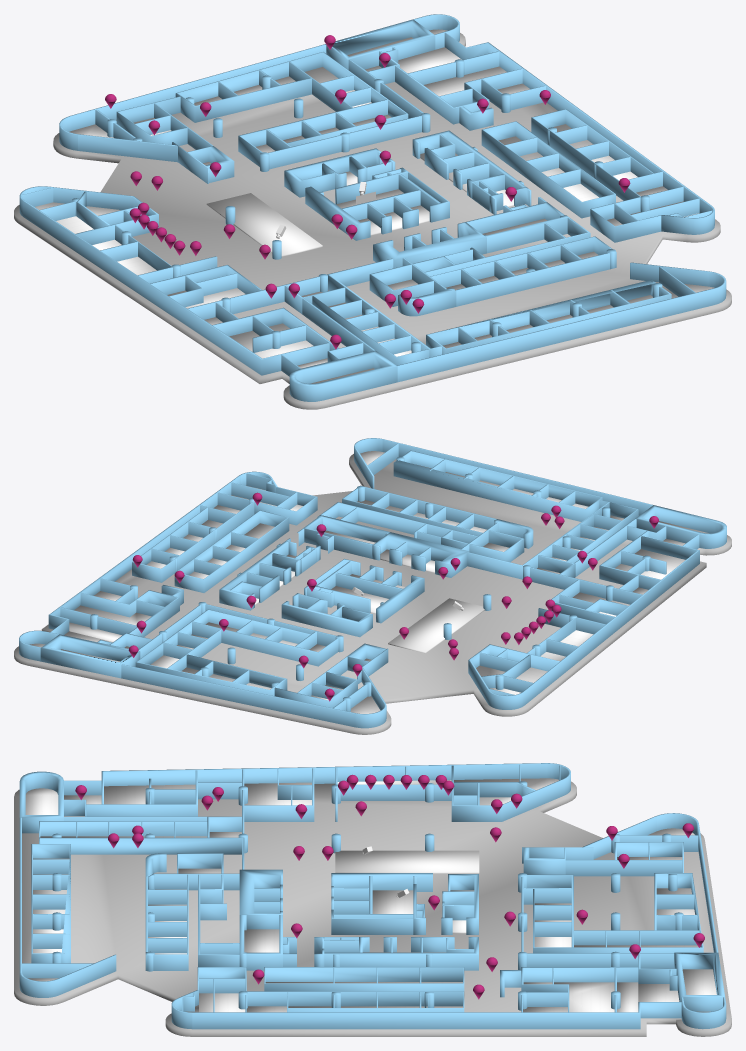
File: qzw.gltf
3 renders of one model, top to bottom at view 1: azimuth 30°, elevation 25°; view 2: azimuth 150°, elevation 25°; view 3: azimuth 270°, elevation 25°, orthographic. The views are drawn at different scales.
Visible parts, largest first — view 1: Line009, Shape001, Layer_________001, Z_UP; view 2: Line009, Shape001, Layer_________001, Z_UP; view 3: Line009, Shape001, Layer_________001, Z_UP.
Boxes of the visible parts, x1,y1,x2,y2 form: Line009: [19, 14, 726, 401]; Shape001: [14, 33, 731, 409]; Layer_________001: [35, 29, 714, 383]; Z_UP: [206, 193, 322, 256]; Line009: [19, 438, 726, 728]; Shape001: [14, 454, 731, 734]; Layer_________001: [30, 451, 708, 713]; Z_UP: [388, 598, 484, 653]; Line009: [19, 763, 726, 1029]; Shape001: [14, 781, 731, 1036]; Layer_________001: [25, 778, 716, 1012]; Z_UP: [335, 850, 479, 873].
Size of the model in its own units: 51.89 by 3.58 by 61.69.
Materials: 38 (3 with a texture image).
